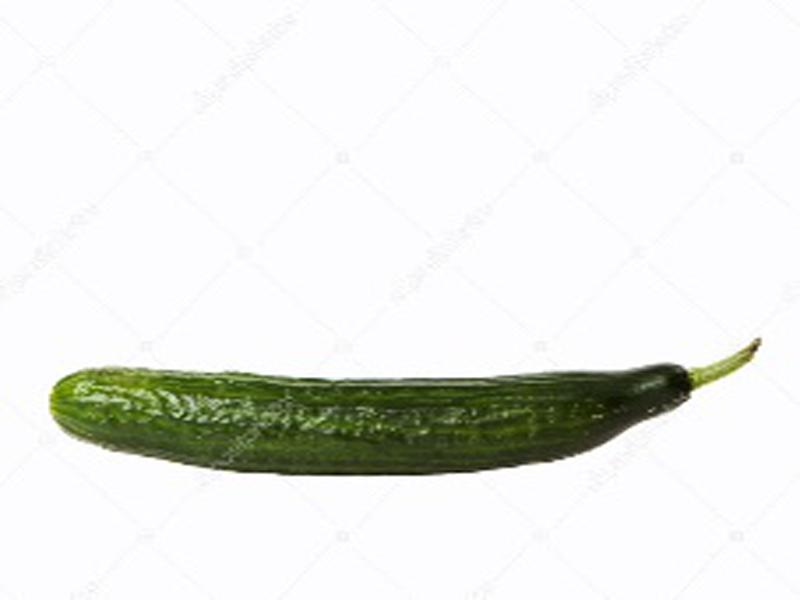Cucumber: (53, 338, 765, 473)
